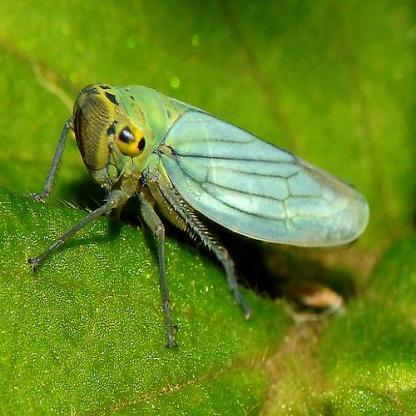Green-Leafhopper: (31, 81, 369, 350)
